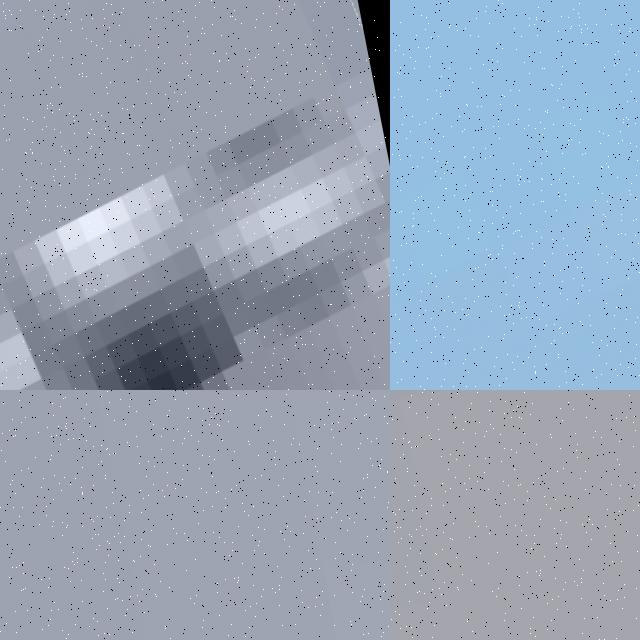drone: (0, 0, 390, 390), (390, 0, 640, 390)
